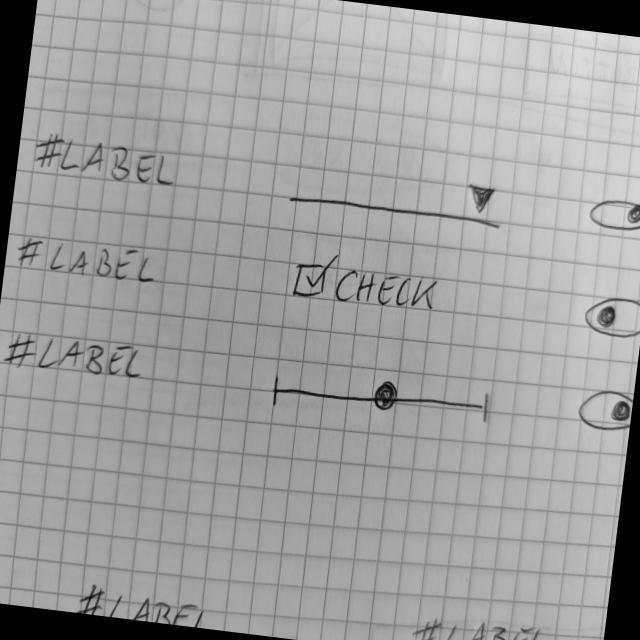checkbox: (287, 248, 451, 319)
label: (28, 127, 183, 193), (3, 325, 153, 386), (13, 232, 163, 292), (67, 579, 216, 630), (409, 608, 555, 640)
select: (285, 157, 509, 235)
slider: (267, 361, 502, 439)
toggle: (573, 383, 635, 436), (581, 290, 640, 341), (586, 193, 640, 238)
